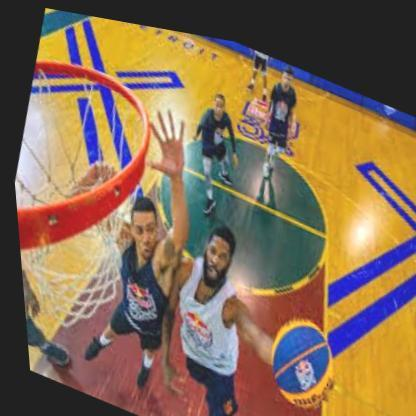basketball: (250, 295, 343, 414)
rim: (3, 47, 170, 324)
